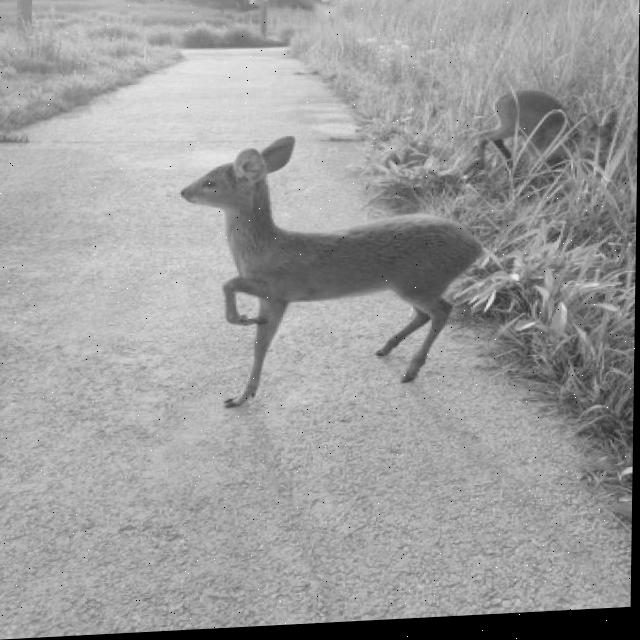Deer: (109, 124, 494, 472), (465, 68, 638, 202)
